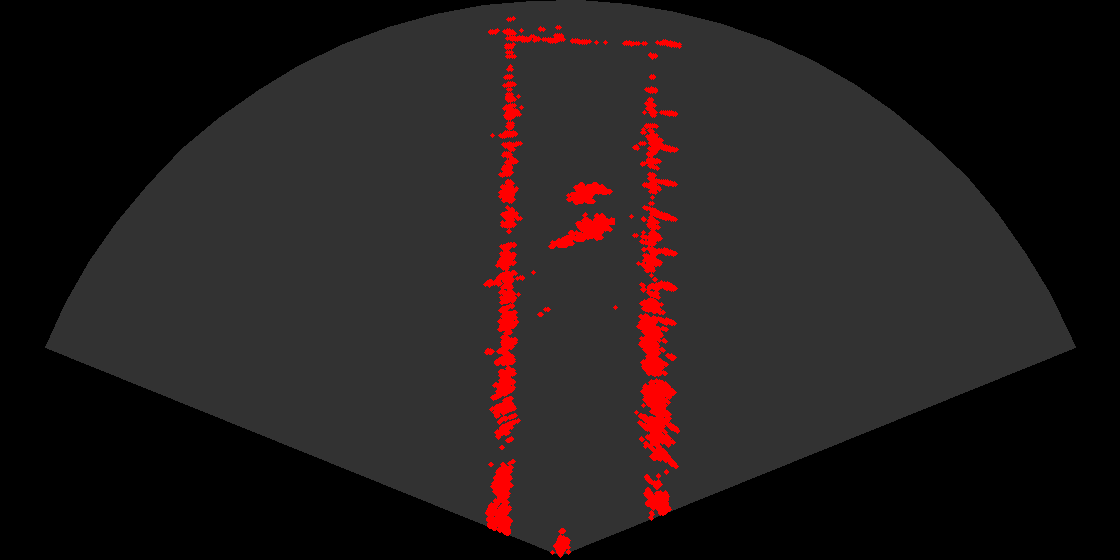AUV: (560, 180, 616, 212)
frogman: (547, 206, 615, 253)
